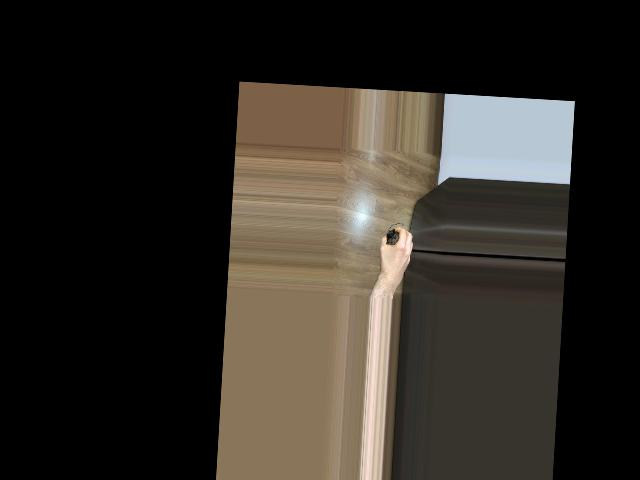beet: (385, 221, 403, 245)
